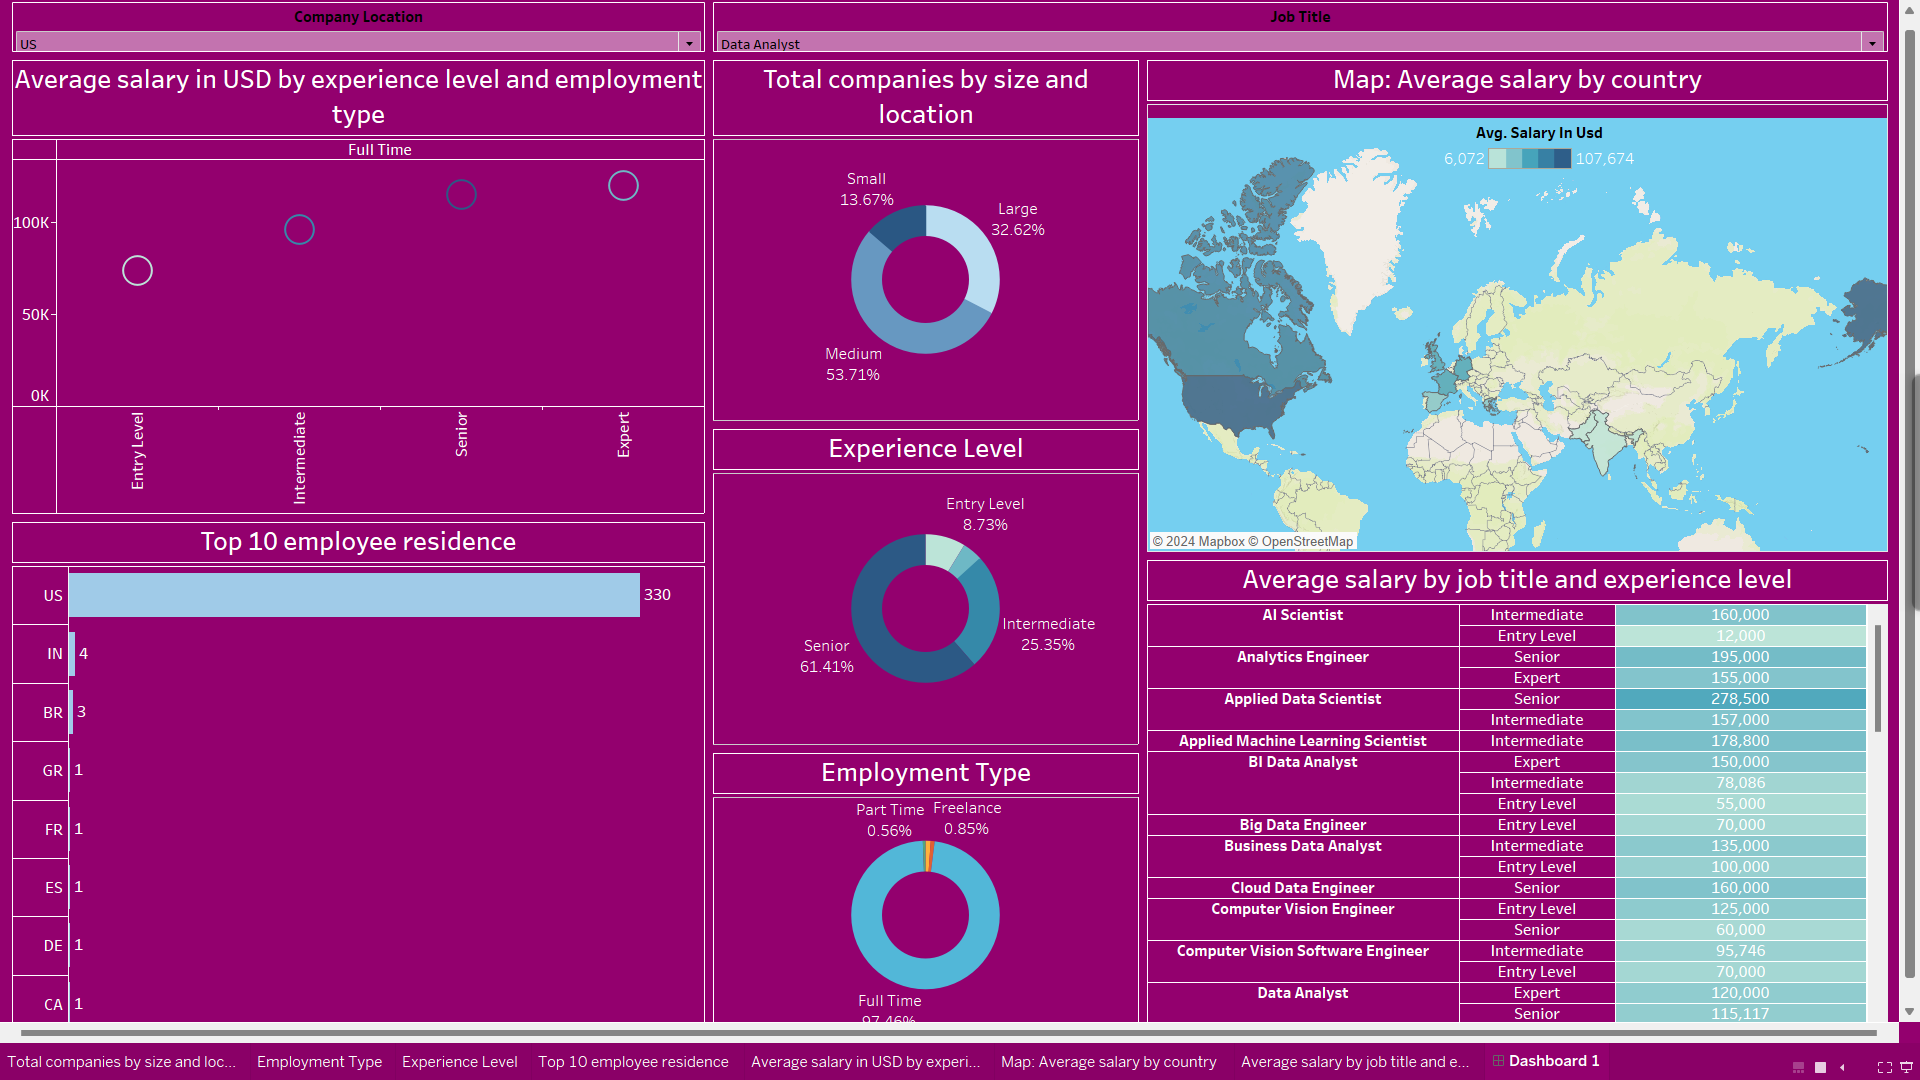

The page's visual inventory and layout, read from the dashboard file:
{"tool":"tableau","page":{"name":"Data Science Job Salaries Dashboard","canvas":[1900,1056],"ordinal":0},"visuals":[{"type":"filter","title":"Average salary in USD by experience level and employment type","param":"[federated.067fh9t185z0y11567zhi1u040c7].[none:company_location:nk]","box":[8,8,701.4,57.9]},{"type":"filter","title":"Average salary in USD by experience level and employment type","param":"[federated.067fh9t185z0y11567zhi1u040c7].[none:job_title:nk]","box":[709.4,8,1182.6,58]},{"type":"worksheet","title":"Average salary in USD by experience level and employment type","mark":"Shape","rows":["salary_in_usd"],"cols":["employment_type","experience_level"],"box":[8,65.9,701.4,462.1]},{"type":"worksheet","title":"Total companies by size and location","mark":"Pie","rows":["Calculation_348747499068043265","Calculation_348747499068043265"],"box":[709.4,66,433.9,368.7]},{"type":"worksheet","title":"Map: Average salary by country","mark":"Automatic","box":[1143.4,66,748.6,499.6]},{"type":"legend","title":"Map: Average salary by country","param":"[federated.067fh9t185z0y11567zhi1u040c7].[avg:salary_in_usd:qk]","box":[1440,132,199,62]},{"type":"worksheet","title":"Experience Level","mark":"Pie","rows":["Calculation_348747499068043265","Calculation_348747499068043265"],"box":[709.4,434.8,433.9,324.1]},{"type":"worksheet","title":"Top 10 employee residence","mark":"Automatic","rows":["employee_residence"],"cols":["employee_residence"],"box":[8,527.9,701.4,520.1]},{"type":"worksheet","title":"Average salary by job title and experience level","mark":"Square","rows":["job_title","experience_level"],"box":[1143.4,565.7,748.6,482.3]},{"type":"worksheet","title":"Employment Type","mark":"Pie","rows":["Calculation_348747499068043265","Calculation_348747499068043265"],"box":[709.4,758.9,433.9,289.1]}]}

Visuals, with their boxes in screenshot pixels (x1, y1, x2, y2):
"Average salary in USD by experience level and employment type" filter: detection(8, 0, 707, 51)
"Average salary in USD by experience level and employment type" filter: detection(707, 0, 1885, 51)
"Average salary in USD by experience level and employment type" worksheet (Shape marks): detection(8, 51, 707, 511)
"Total companies by size and location" worksheet (Pie marks): detection(707, 51, 1139, 418)
"Map: Average salary by country" worksheet: detection(1139, 51, 1885, 549)
"Map: Average salary by country" legend: detection(1435, 117, 1633, 178)
"Experience Level" worksheet (Pie marks): detection(707, 418, 1139, 741)
"Top 10 employee residence" worksheet: detection(8, 511, 707, 1029)
"Average salary by job title and experience level" worksheet (Square marks): detection(1139, 549, 1885, 1029)
"Employment Type" worksheet (Pie marks): detection(707, 741, 1139, 1029)
